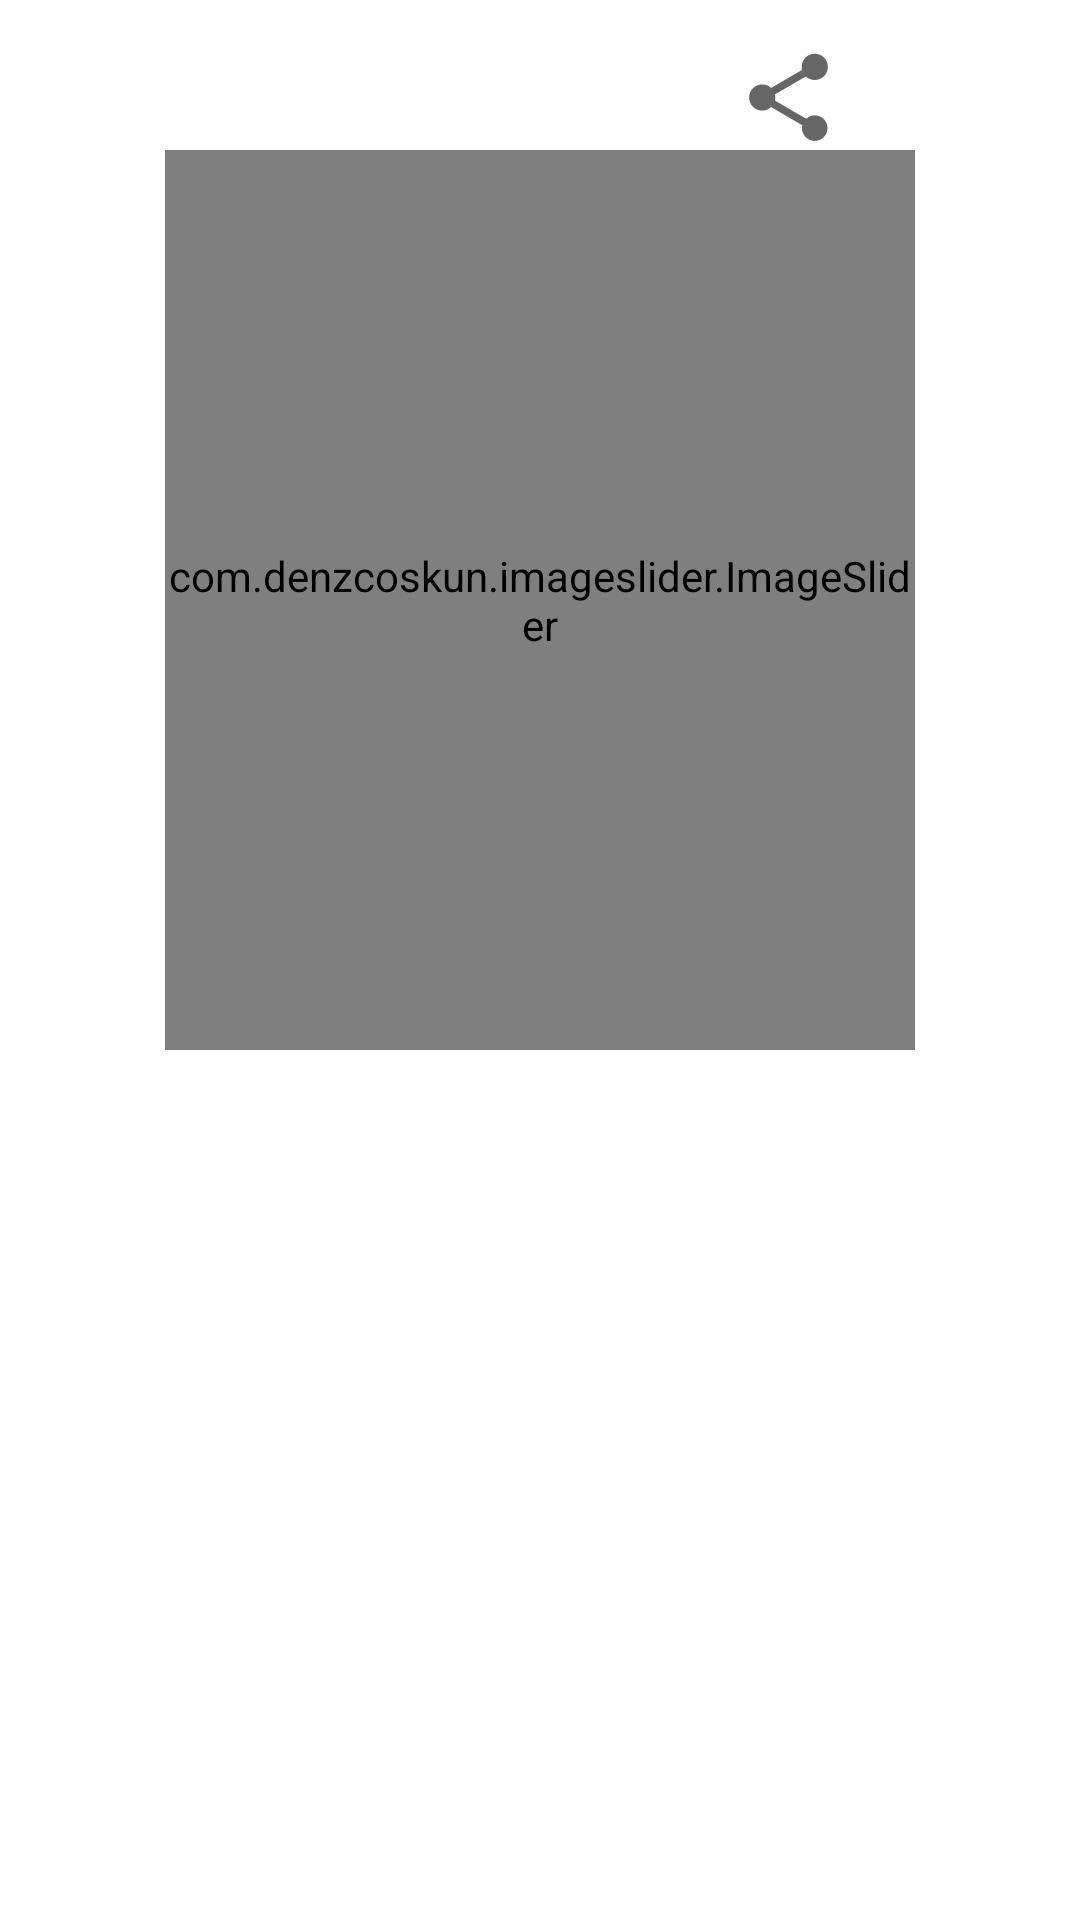

Icons on this 1080 × 1920 Android screen, each with its box as (x1, y1, x2, y2):
share: (749, 53, 828, 141)
